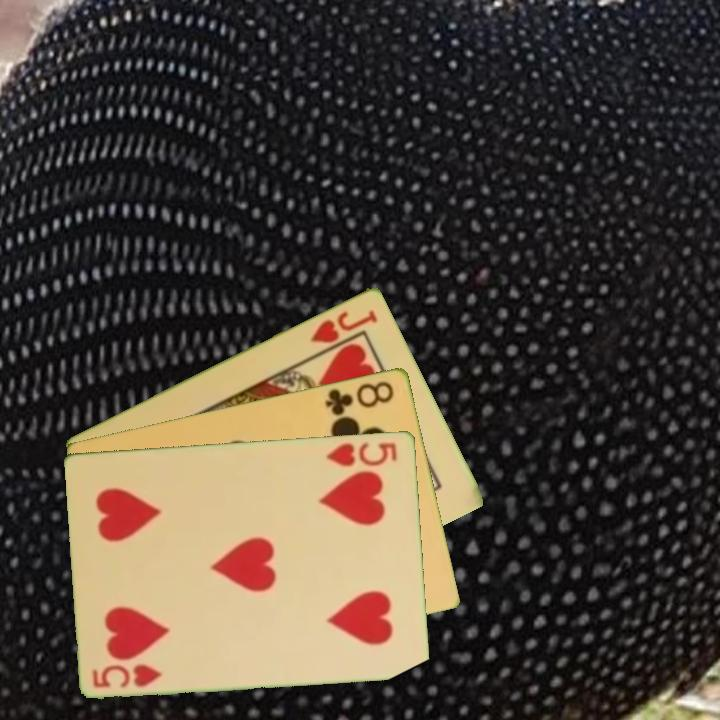5h: (323, 438, 401, 469), (89, 660, 166, 690)
8c: (321, 377, 397, 418)
Jh: (306, 306, 381, 346)
